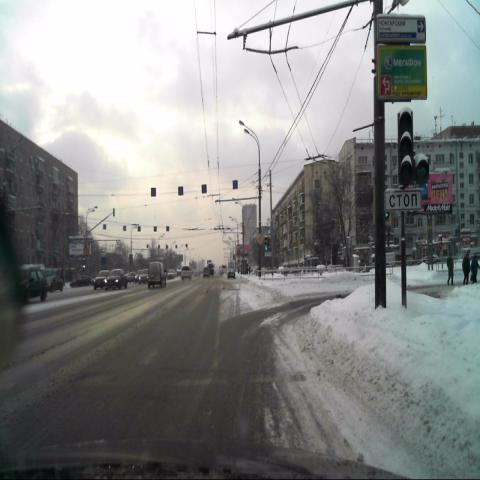6_16: (385, 191, 421, 211)
